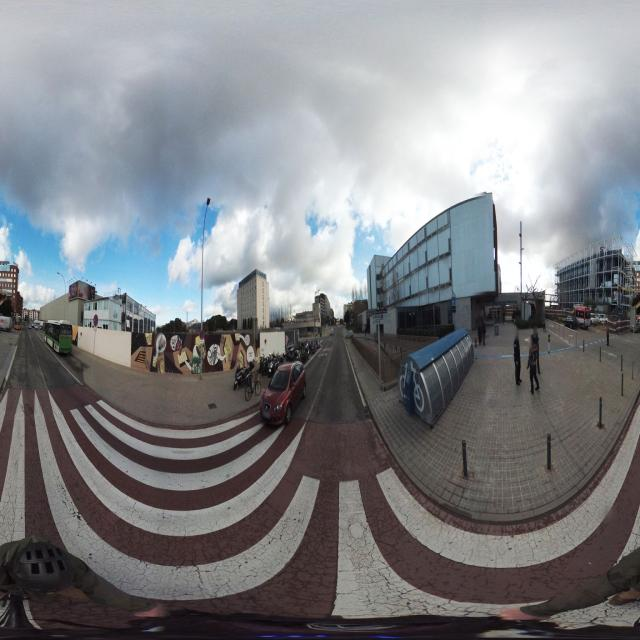forb_stopping: (200, 329, 205, 340)
forb_waiting: (93, 314, 98, 327)
